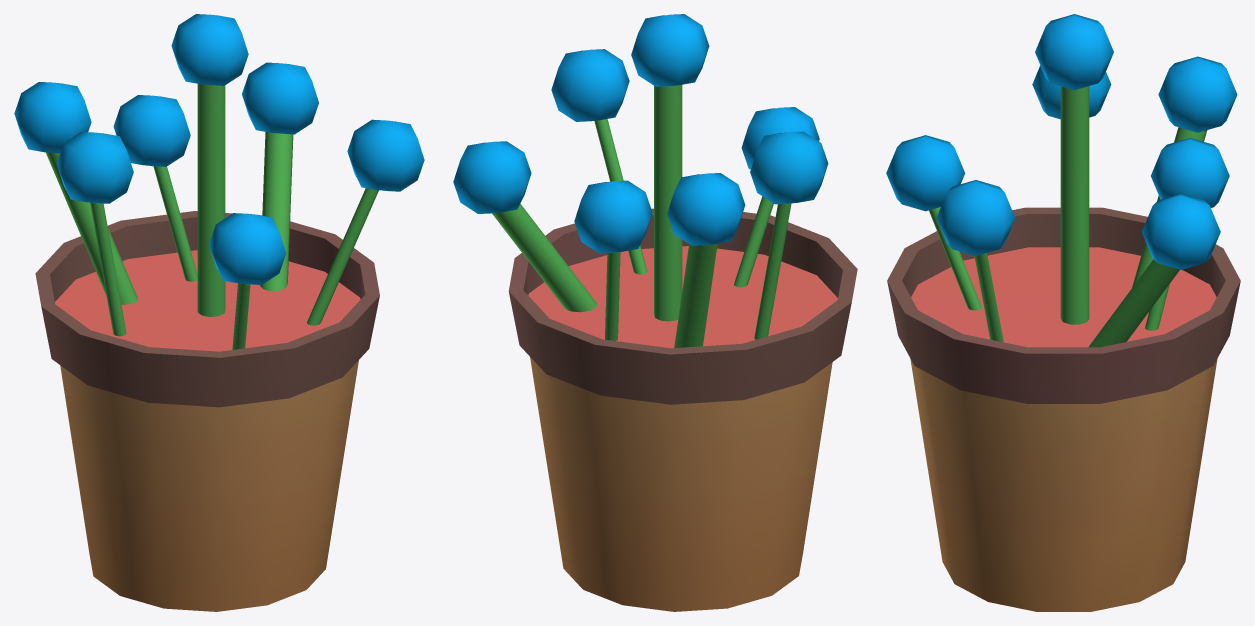
The model's file is plant-02.glb.
The picture shows the model from 3 angles, left to right: view 1: azimuth 30°, elevation 25°; view 2: azimuth 150°, elevation 25°; view 3: azimuth 270°, elevation 25°; orthographic projection.
Visible parts, largest first — view 1: plant 02; view 2: plant 02; view 3: plant 02.
Boxes of the visible parts, bbox=[...] form: plant 02: bbox=[14, 14, 424, 611]; plant 02: bbox=[453, 14, 857, 611]; plant 02: bbox=[886, 14, 1240, 611].
Size of the model in its own units: 0.418 by 0.6845 by 0.4005.
1 material, 1 textured.
